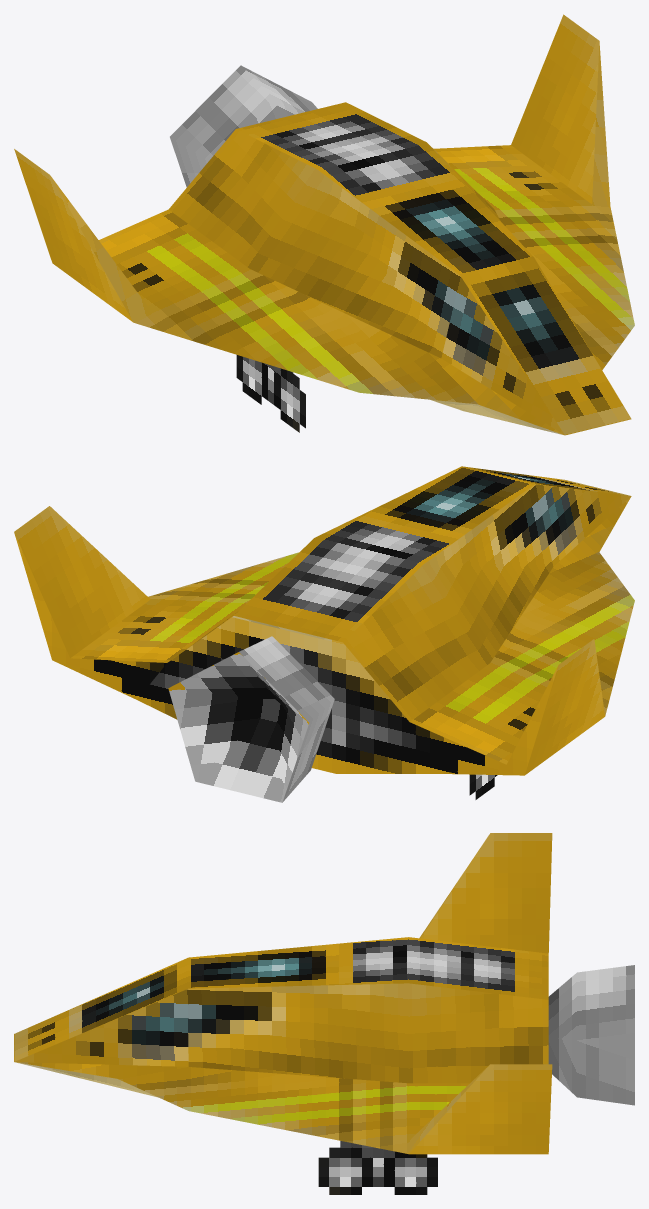
File: lifeboat.glb
The picture shows the model from 3 angles, top to bottom: view 1: azimuth 30°, elevation 25°; view 2: azimuth 150°, elevation 25°; view 3: azimuth 270°, elevation 25°; orthographic projection. The views are drawn at different scales.
Parts seen in each view (by area): view 1: LandingGear01; view 2: LandingGear01; view 3: LandingGear01.
Part boxes in pixels (left/top/right/bottom): LandingGear01: left=14, top=14, right=634, bottom=435; LandingGear01: left=14, top=466, right=634, bottom=802; LandingGear01: left=14, top=833, right=634, bottom=1194.
Bounding box in the file's own units: 4.64 × 1.84 × 5.27.
Materials: 1 (1 with a texture image).
